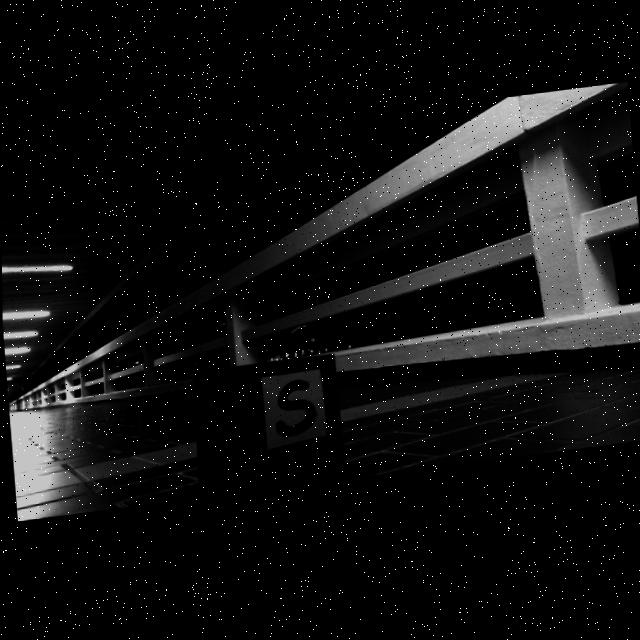S: (276, 383, 316, 440)
